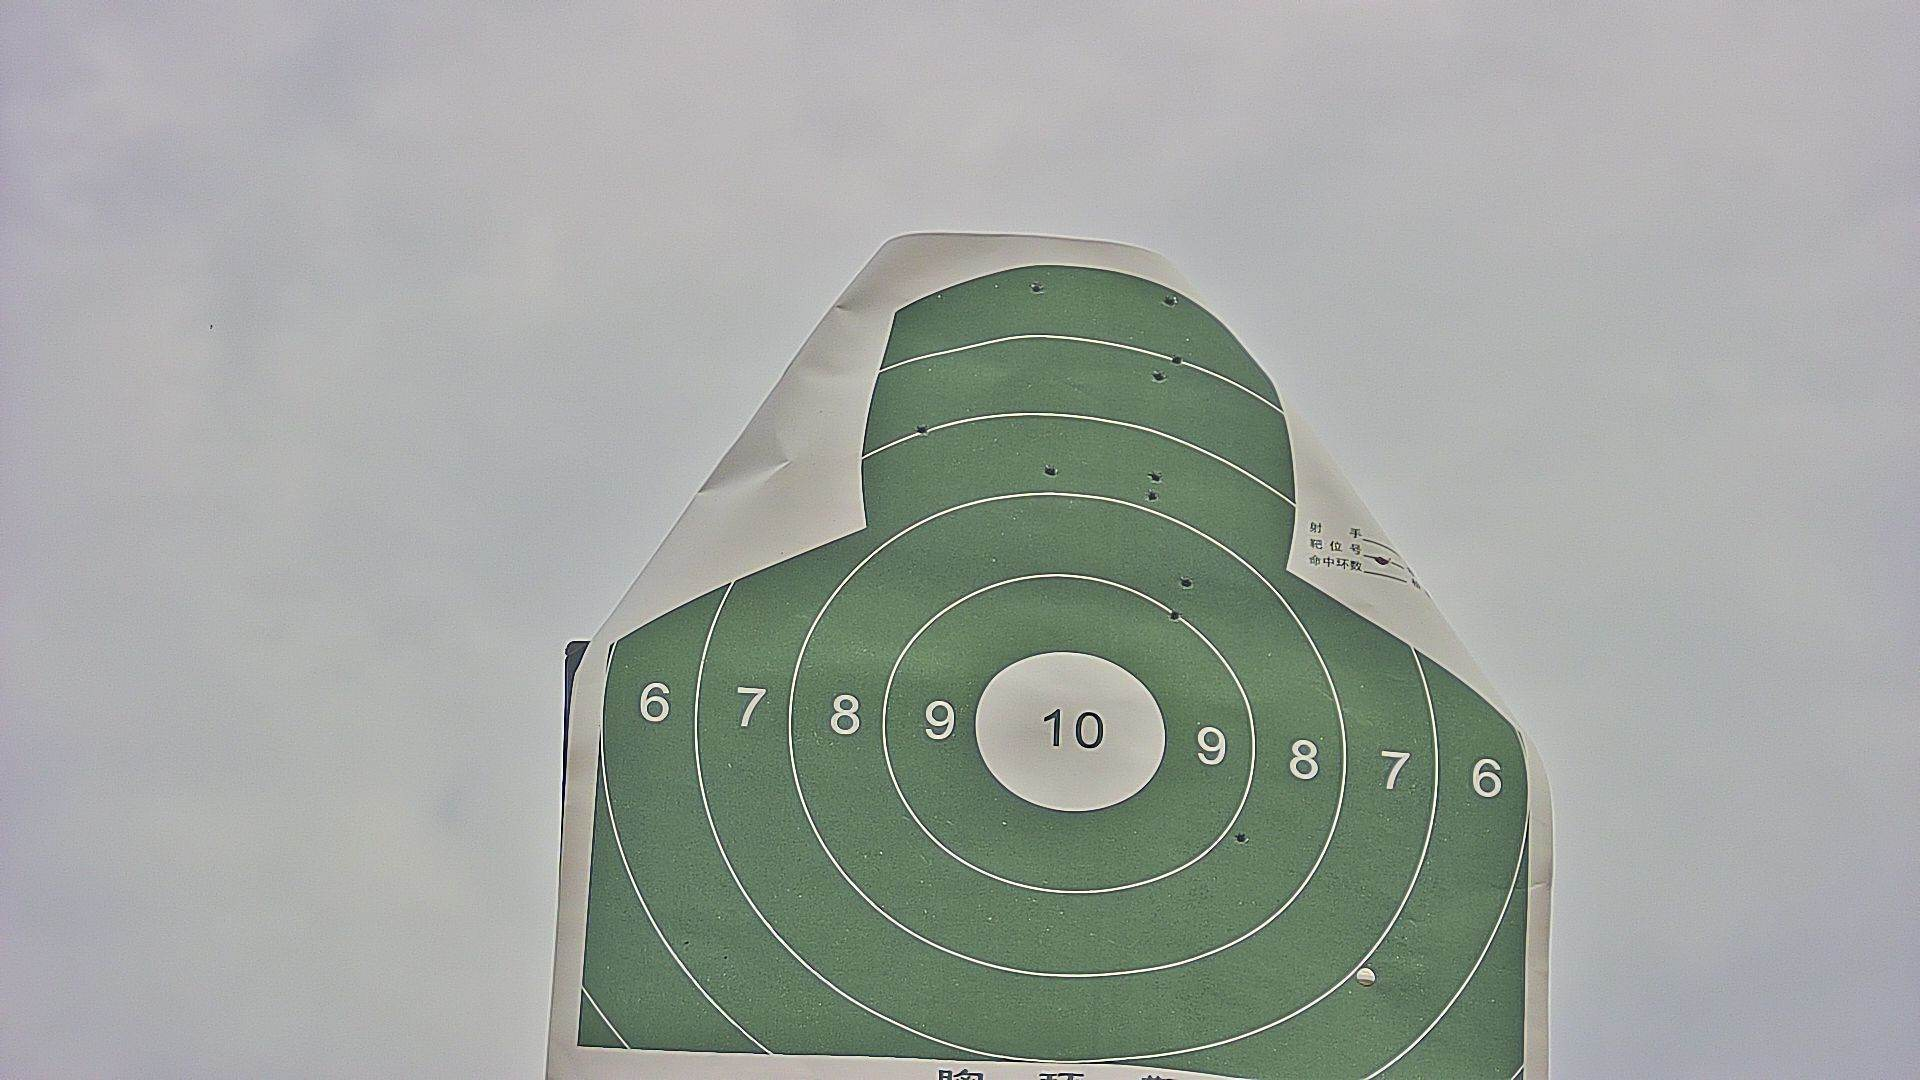hole: (1178, 575, 1193, 589), (1029, 282, 1043, 295), (1151, 369, 1164, 384), (1043, 464, 1060, 475), (1164, 295, 1176, 309), (1145, 489, 1156, 501), (1236, 832, 1247, 844), (1149, 469, 1162, 480), (916, 423, 928, 434), (1170, 607, 1180, 618), (1174, 353, 1180, 365)
kernel: (1067, 731, 1071, 735)
target: (578, 269, 1530, 1080)
ten: (973, 651, 1166, 814)
